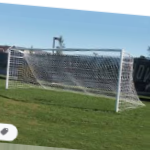goals: (5, 45, 148, 115)
